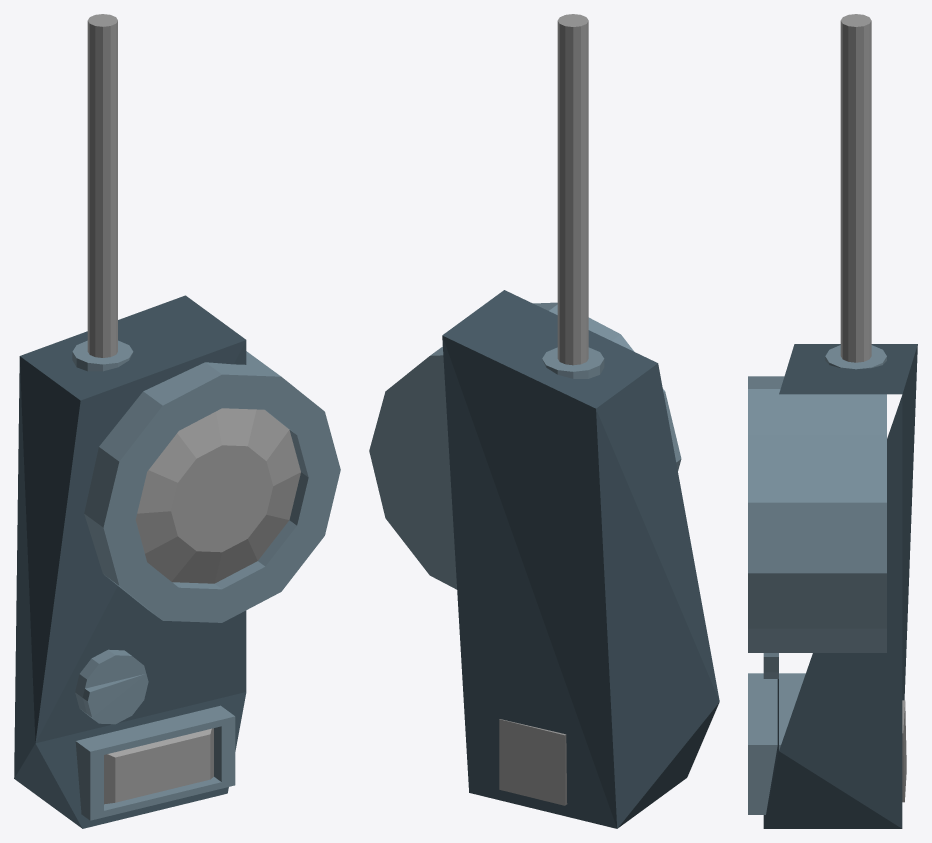
The model's file is field_transceiver.glb.
3 views of the same model, side by side, from view 1: azimuth 30°, elevation 25°; view 2: azimuth 150°, elevation 25°; view 3: azimuth 270°, elevation 25° (orthographic). The views are drawn at different scales.
Parts seen in each view (by area): view 1: Node; view 2: Node; view 3: Node.
Boxes of the visible parts, box(x1,y1,x2,y2) form: Node: box(14, 14, 340, 828); Node: box(369, 14, 719, 828); Node: box(748, 14, 917, 828).
Bounding box in the file's own units: 0.22 × 0.55 × 0.11.
